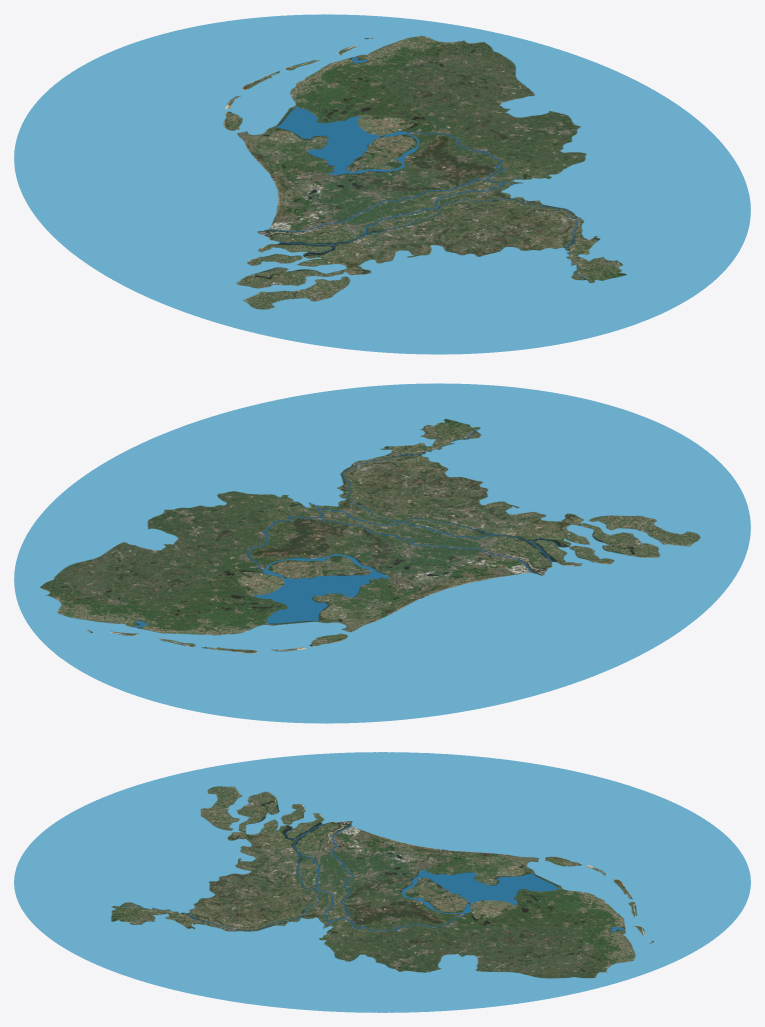
Rendered from NLD-previa-terrain.glb.
3 renders of one model, top to bottom at view 1: azimuth 30°, elevation 25°; view 2: azimuth 150°, elevation 25°; view 3: azimuth 270°, elevation 25°, orthographic. The views are drawn at different scales.
Visible parts, largest first — view 1: Países Baixos; view 2: Países Baixos; view 3: Países Baixos.
Boxes of the visible parts, bbox=[...] form: Países Baixos: bbox=[14, 14, 750, 354]; Países Baixos: bbox=[14, 383, 750, 723]; Países Baixos: bbox=[14, 752, 750, 1012].
Size of the model in its own units: 2 by 0.00458 by 2.39.
Materials: 1 (1 with a texture image).
